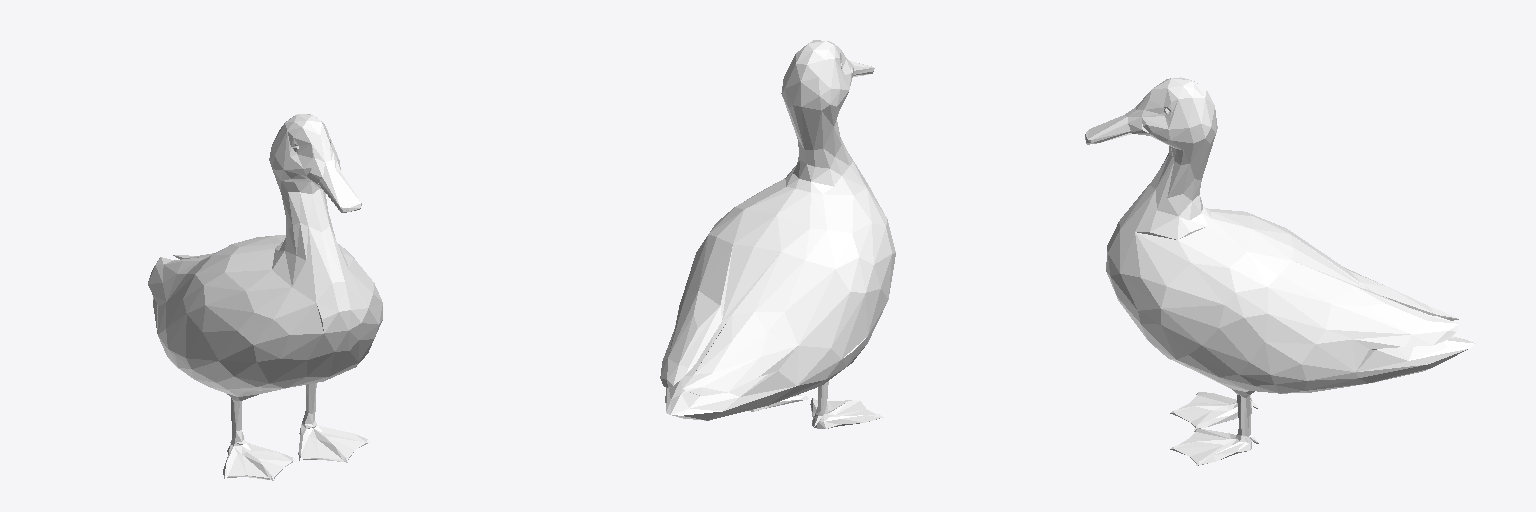
Rendered from duck.obj.
3 views of the same model, side by side, from view 1: azimuth 30°, elevation 25°; view 2: azimuth 150°, elevation 25°; view 3: azimuth 270°, elevation 25° (orthographic).
Parts seen in each view (by area): view 1: 12248_Bird_v1_L2; view 2: 12248_Bird_v1_L2; view 3: 12248_Bird_v1_L2.
Part boxes in pixels (left/top/right/bottom): 12248_Bird_v1_L2: left=148, top=114, right=382, bottom=480; 12248_Bird_v1_L2: left=660, top=40, right=895, bottom=428; 12248_Bird_v1_L2: left=1085, top=77, right=1474, bottom=465.
Bounding box in the file's own units: 0.2844 × 0.5641 × 0.5659.